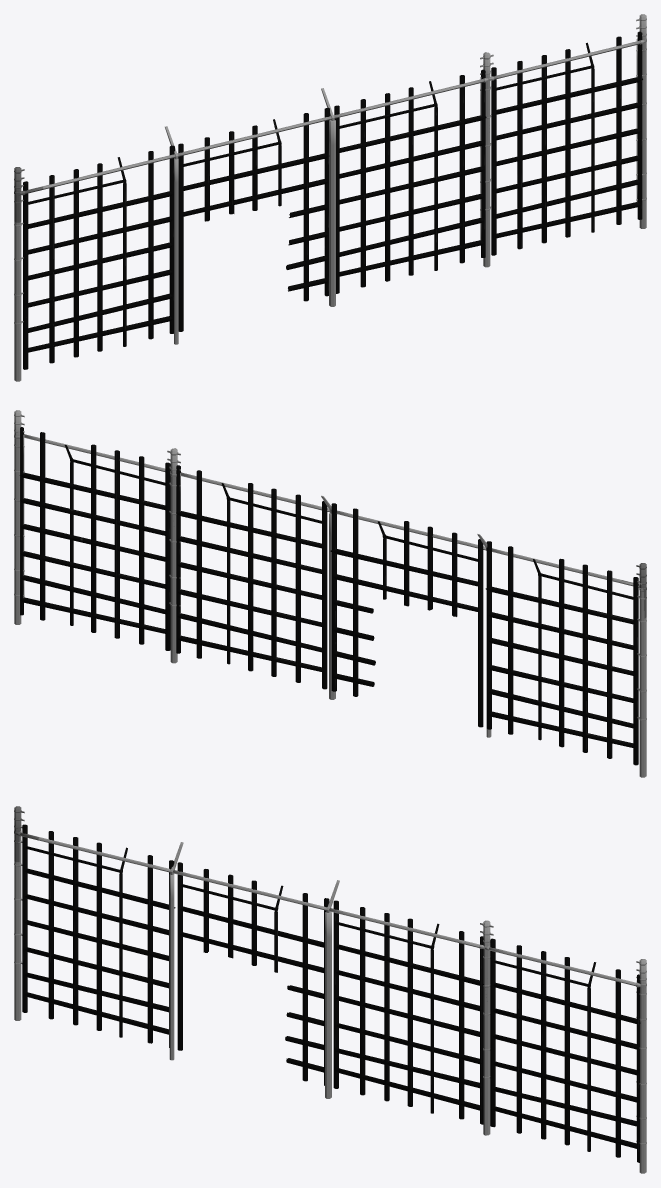
File: wire2.fbx
The picture shows the model from 3 angles, top to bottom: view 1: azimuth 30°, elevation 25°; view 2: azimuth 150°, elevation 25°; view 3: azimuth 330°, elevation 25°; orthographic projection.
Parts seen in each view (by area): view 1: wire.004, Metal posts; view 2: wire.004, Metal posts; view 3: wire.004, Metal posts.
Boxes of the visible parts, bbox=[...] form: wire.004: bbox=[23, 31, 642, 369]; Metal posts: bbox=[14, 14, 646, 381]; wire.004: bbox=[19, 427, 638, 765]; Metal posts: bbox=[14, 410, 646, 777]; wire.004: bbox=[22, 824, 640, 1162]; Metal posts: bbox=[14, 806, 646, 1173].
Size of the model in its own units: 1099 by 355 by 37.02.
2 materials, 2 textured.
